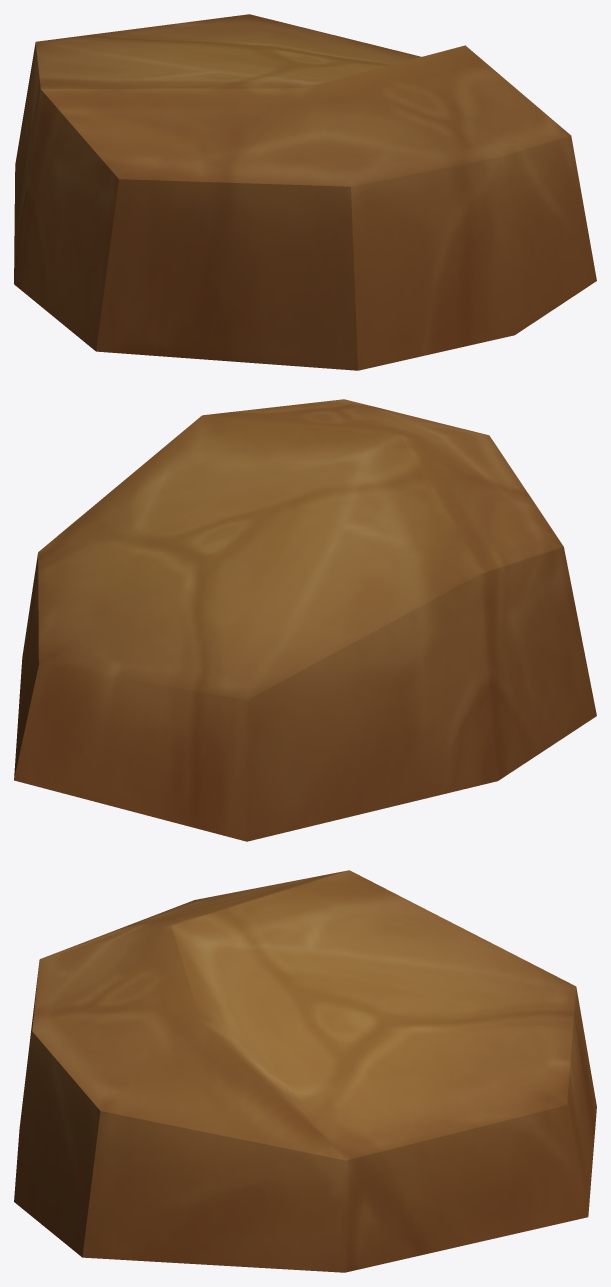
Rendered from Desert_stone_03.fbx.
3 views of the same model, one above another, from view 1: azimuth 30°, elevation 25°; view 2: azimuth 150°, elevation 25°; view 3: azimuth 270°, elevation 25° (orthographic). The views are drawn at different scales.
Visible parts, largest first — view 1: Desert_stone_03; view 2: Desert_stone_03; view 3: Desert_stone_03.
Part boxes in pixels (x1,y1,x2,y2): Desert_stone_03: [14, 14, 596, 370]; Desert_stone_03: [14, 399, 596, 841]; Desert_stone_03: [14, 870, 596, 1272].
Size of the model in its own units: 42.97 by 18.8 by 46.45.
